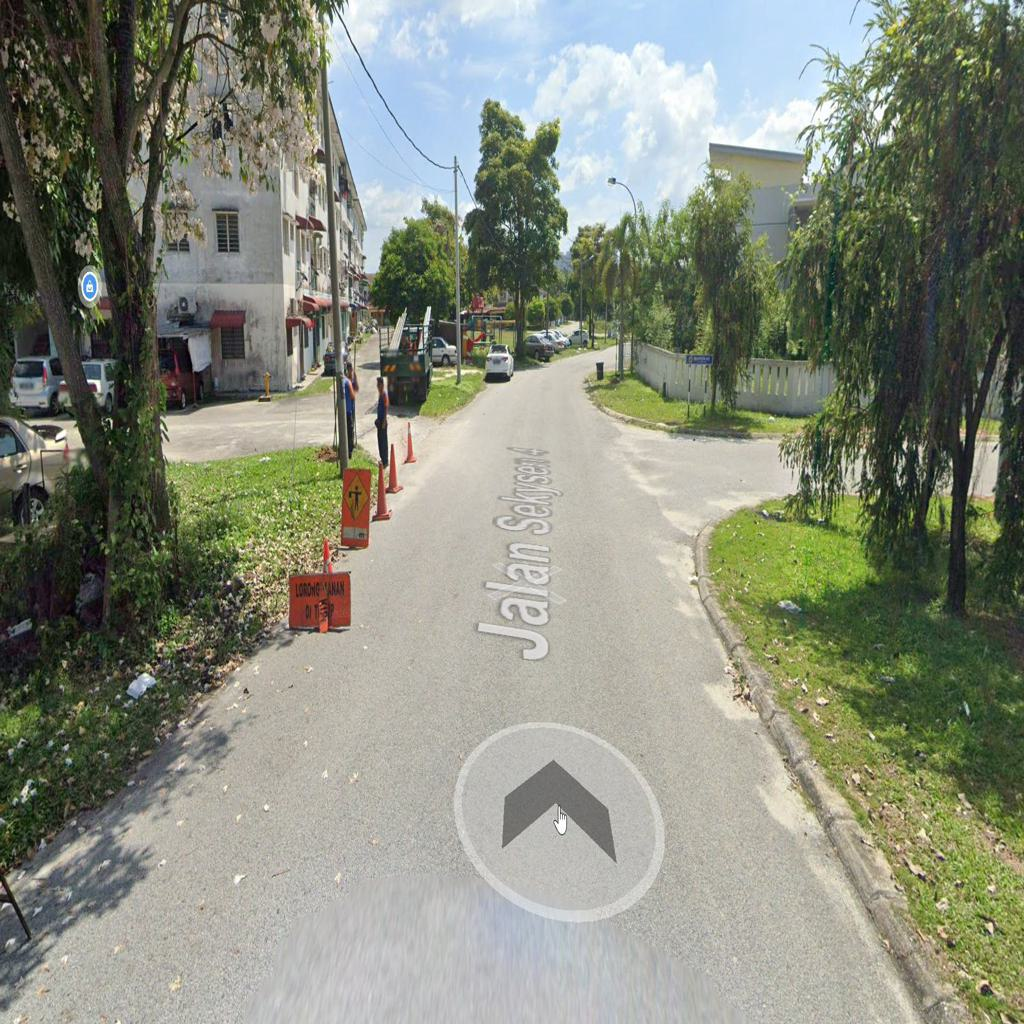Junction: (598, 377, 856, 582)
